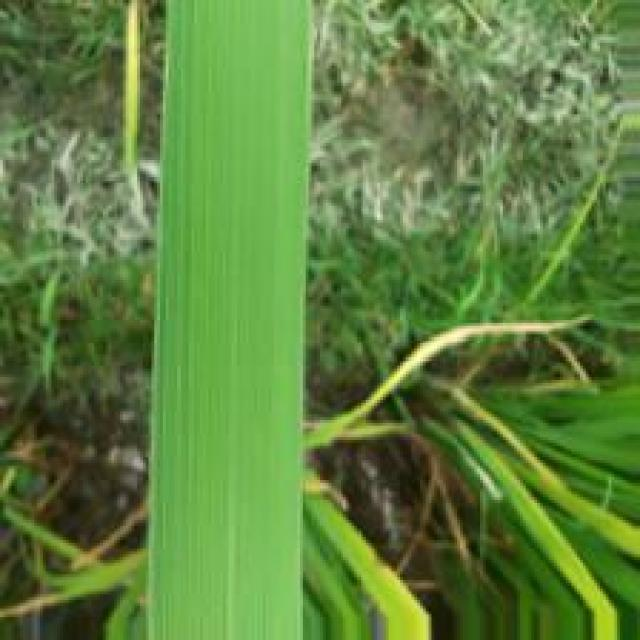HealthyLeaf: (155, 0, 317, 640)
